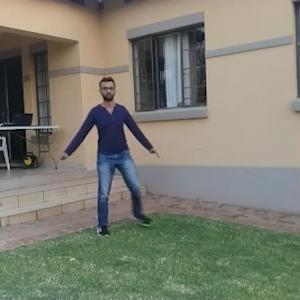land: (64, 88, 151, 226)
